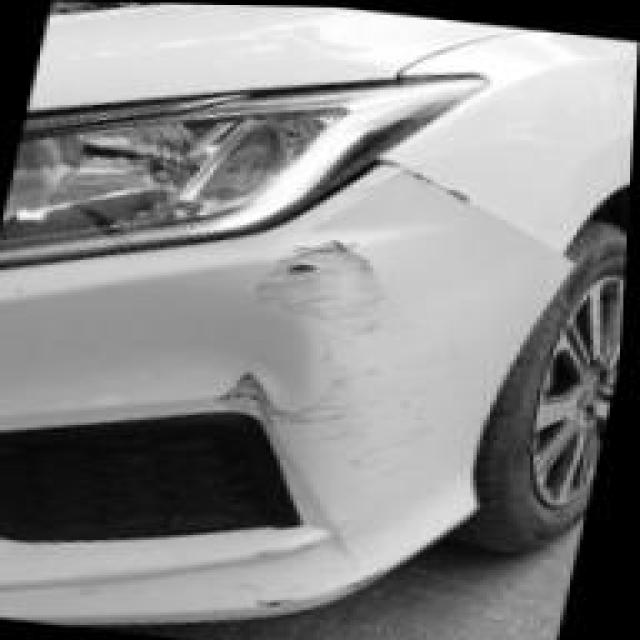Bumper: (0, 169, 477, 606)
